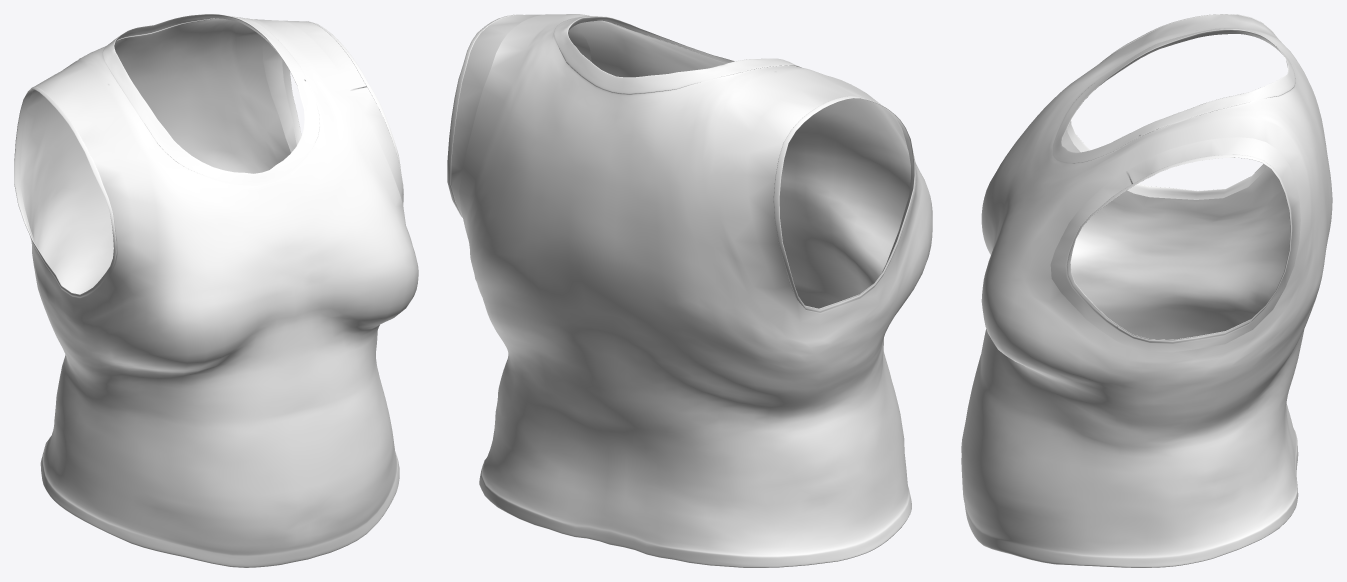
Rendered from Jersey.glb.
3 views of the same model, side by side, from view 1: azimuth 30°, elevation 25°; view 2: azimuth 150°, elevation 25°; view 3: azimuth 270°, elevation 25° (orthographic). The views are drawn at different scales.
Visible parts, largest first — view 1: Tankini_for_Genesis.002; view 2: Tankini_for_Genesis.002; view 3: Tankini_for_Genesis.002.
Boxes of the visible parts, x1,y1,x2,y2 form: Tankini_for_Genesis.002: [14, 14, 418, 567]; Tankini_for_Genesis.002: [447, 14, 932, 567]; Tankini_for_Genesis.002: [961, 14, 1332, 567].
Size of the model in its own units: 7.89 by 10.32 by 7.65.
Materials: 1 (1 with a texture image).
